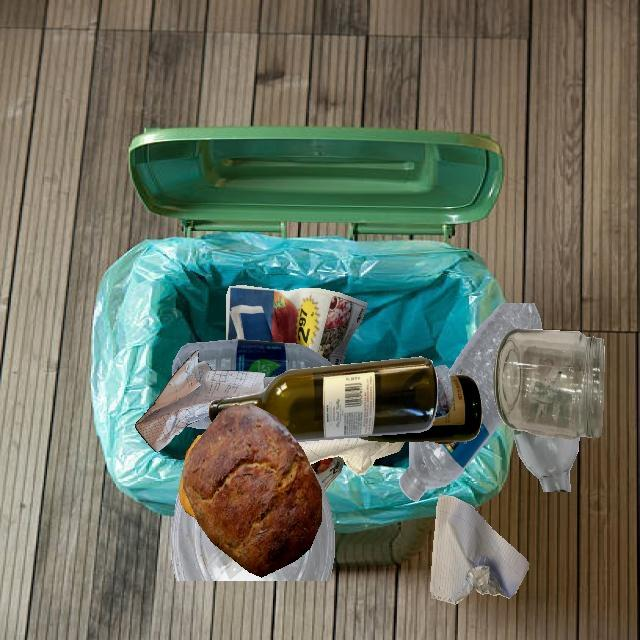biowaste: (182, 404, 322, 577), (179, 471, 196, 518), (183, 435, 203, 469)
glass: (209, 357, 438, 442), (493, 329, 604, 439), (358, 375, 482, 443), (512, 429, 579, 492)
paper: (135, 351, 266, 453), (226, 285, 368, 366), (430, 494, 529, 604), (297, 437, 405, 475)
plastic: (399, 303, 542, 501), (172, 464, 334, 581), (172, 339, 333, 378), (434, 365, 454, 418), (264, 378, 275, 389)
